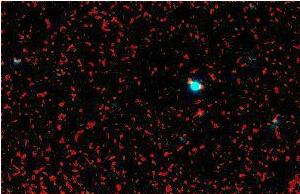star: (175, 65, 205, 95)
